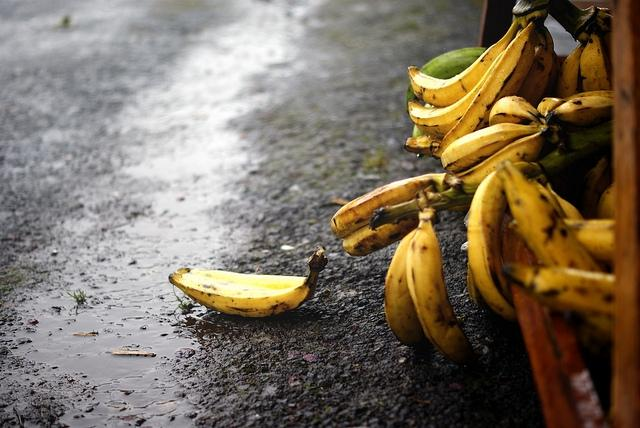banana: (496, 159, 616, 341), (432, 20, 540, 160), (408, 28, 524, 138), (168, 245, 328, 318), (467, 161, 541, 318), (407, 16, 522, 106), (406, 219, 476, 364), (331, 172, 464, 240), (502, 262, 616, 318), (440, 122, 560, 174), (405, 47, 489, 114), (456, 128, 554, 184), (384, 228, 427, 347), (508, 217, 614, 264), (517, 24, 562, 110), (342, 216, 420, 256), (574, 148, 612, 219), (546, 96, 614, 130), (580, 30, 612, 92), (556, 41, 588, 98), (489, 96, 547, 126), (558, 122, 612, 154), (546, 182, 584, 220), (467, 262, 493, 310), (597, 182, 616, 220), (537, 98, 567, 119)
